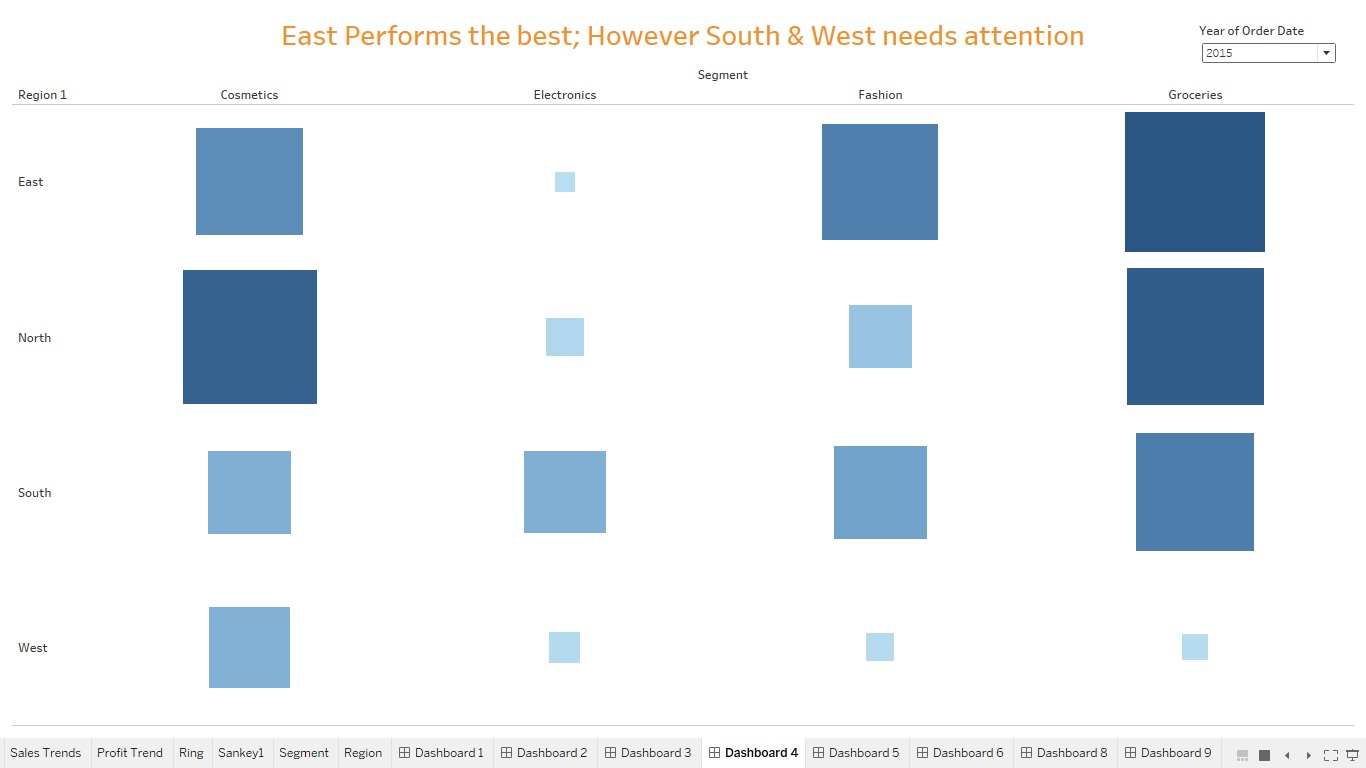

The dashboard page shown, as its layout file describes it:
{"tool":"tableau","page":{"name":"Dashboard 4","canvas":[1000,1000],"units":"permille","ordinal":3},"visuals":[{"type":"worksheet","title":"Sales Combination","mark":"Automatic","cols":["Segment"],"box":[5.9,10.8,988.3,978.3]},{"type":"filter","title":"Sales Combination","param":"[federated.0a1m9l81tqbn4o0zzsdkd12s0d94].[yr:Order Date:ok]","box":[877.9,30.4,102.2,92.9]}]}

Visuals, with their boxes on the dashboard's canvas, which has no fixed pixel size, in thousandths of its width and height (x1, y1, x2, y2). These are canvas units, not pixel positions in the 1366x768 screenshot, which may show the page scaled, cropped or inside an application window:
"Sales Combination" worksheet: Rect(6, 11, 994, 989)
"Sales Combination" filter: Rect(878, 30, 980, 123)
